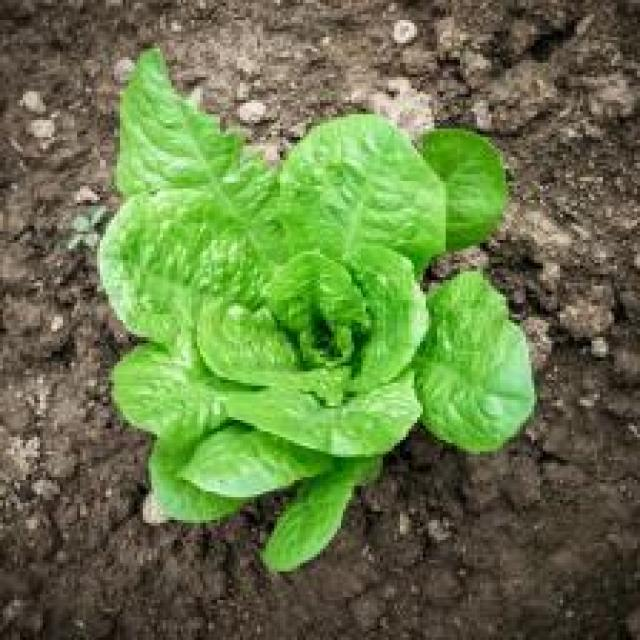Lettuce: (98, 41, 543, 572)
